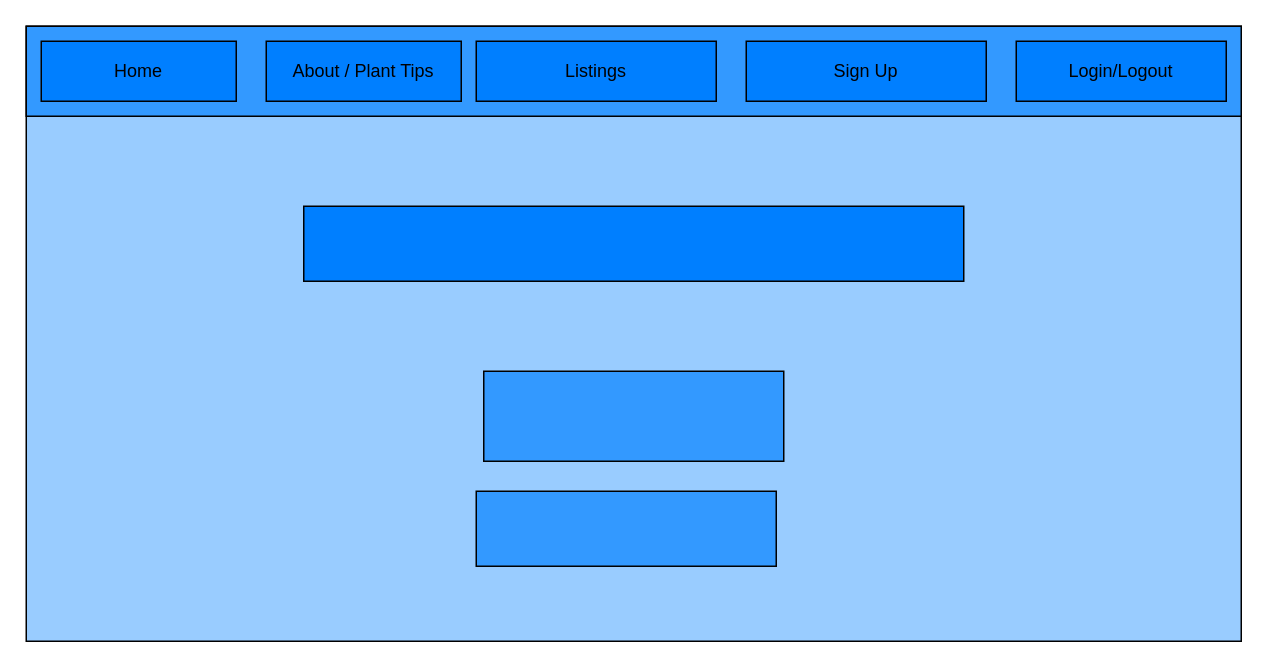
Some shapes in this 1268 by 668 pixel diagram are drawn without their labels. The shapes that lost their labels are listed below. From the top down, each one's centre as x and y in pixels, then its label:
At point (633, 243): "WELCOME TO PLANT APP".
At point (633, 415): "Signup or Login".
At point (625, 528): "View Listings".
